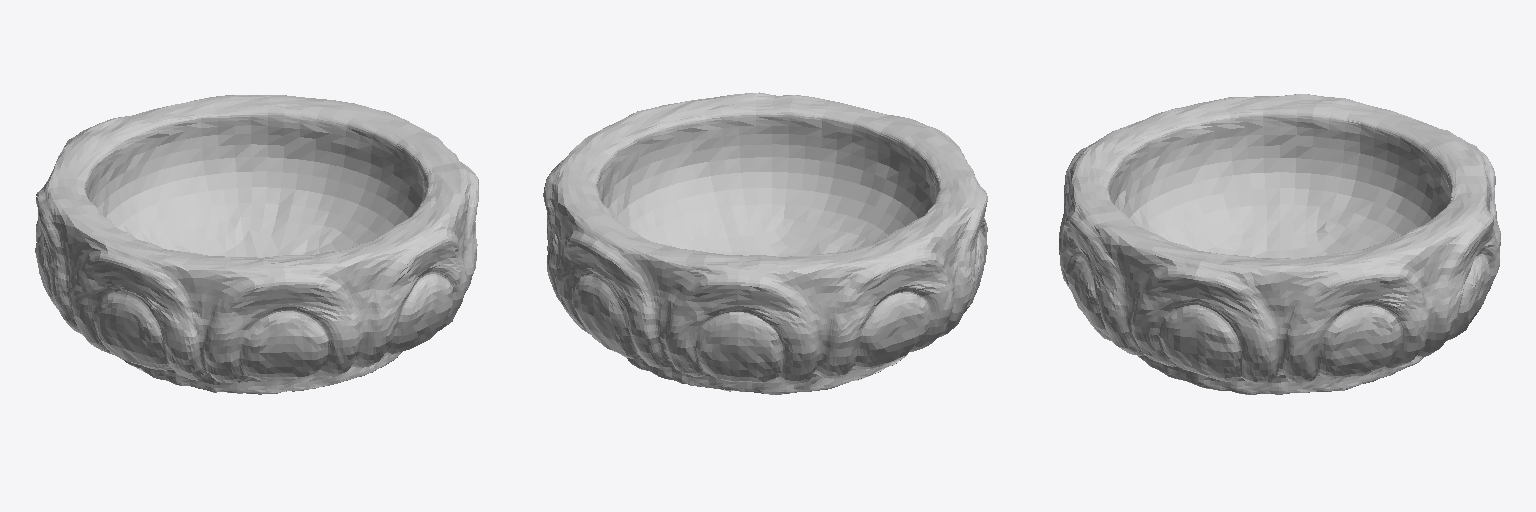
The model's file is Sorting_grp_CHOZUBACHI.obj.
3 views of the same model, side by side, from view 1: azimuth 30°, elevation 25°; view 2: azimuth 150°, elevation 25°; view 3: azimuth 270°, elevation 25° (orthographic).
Parts seen in each view (by area): view 1: default; view 2: default; view 3: default.
Boxes of the visible parts, x1=… form: default: x1=35, y1=95, x2=478, y2=394; default: x1=543, y1=92, x2=987, y2=394; default: x1=1059, y1=94, x2=1500, y2=394.
Bounding box in the file's own units: 12.05 × 4.56 × 11.98.